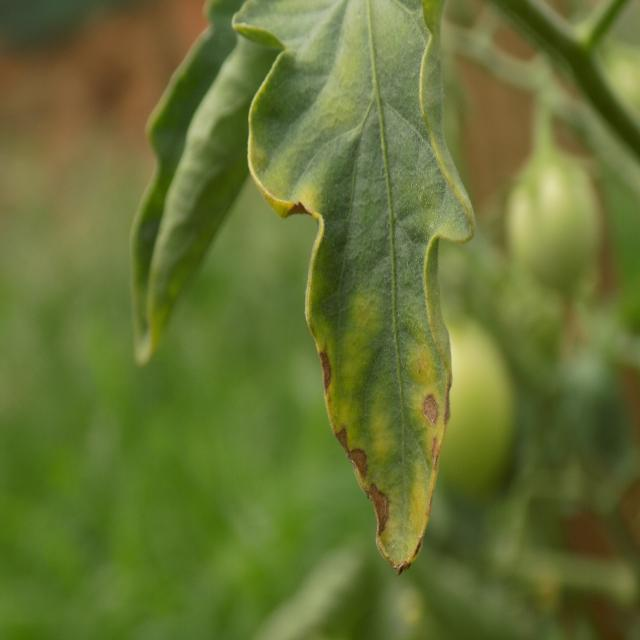tomato_early blight: (233, 0, 468, 575)
